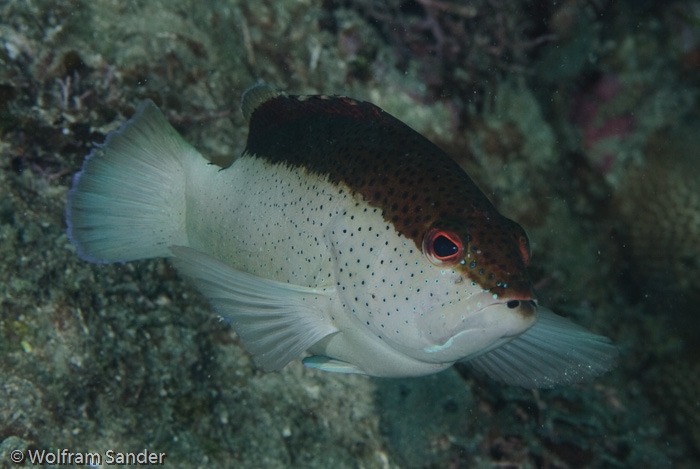Cephalopholis_fulvaw: (69, 72, 589, 399)
